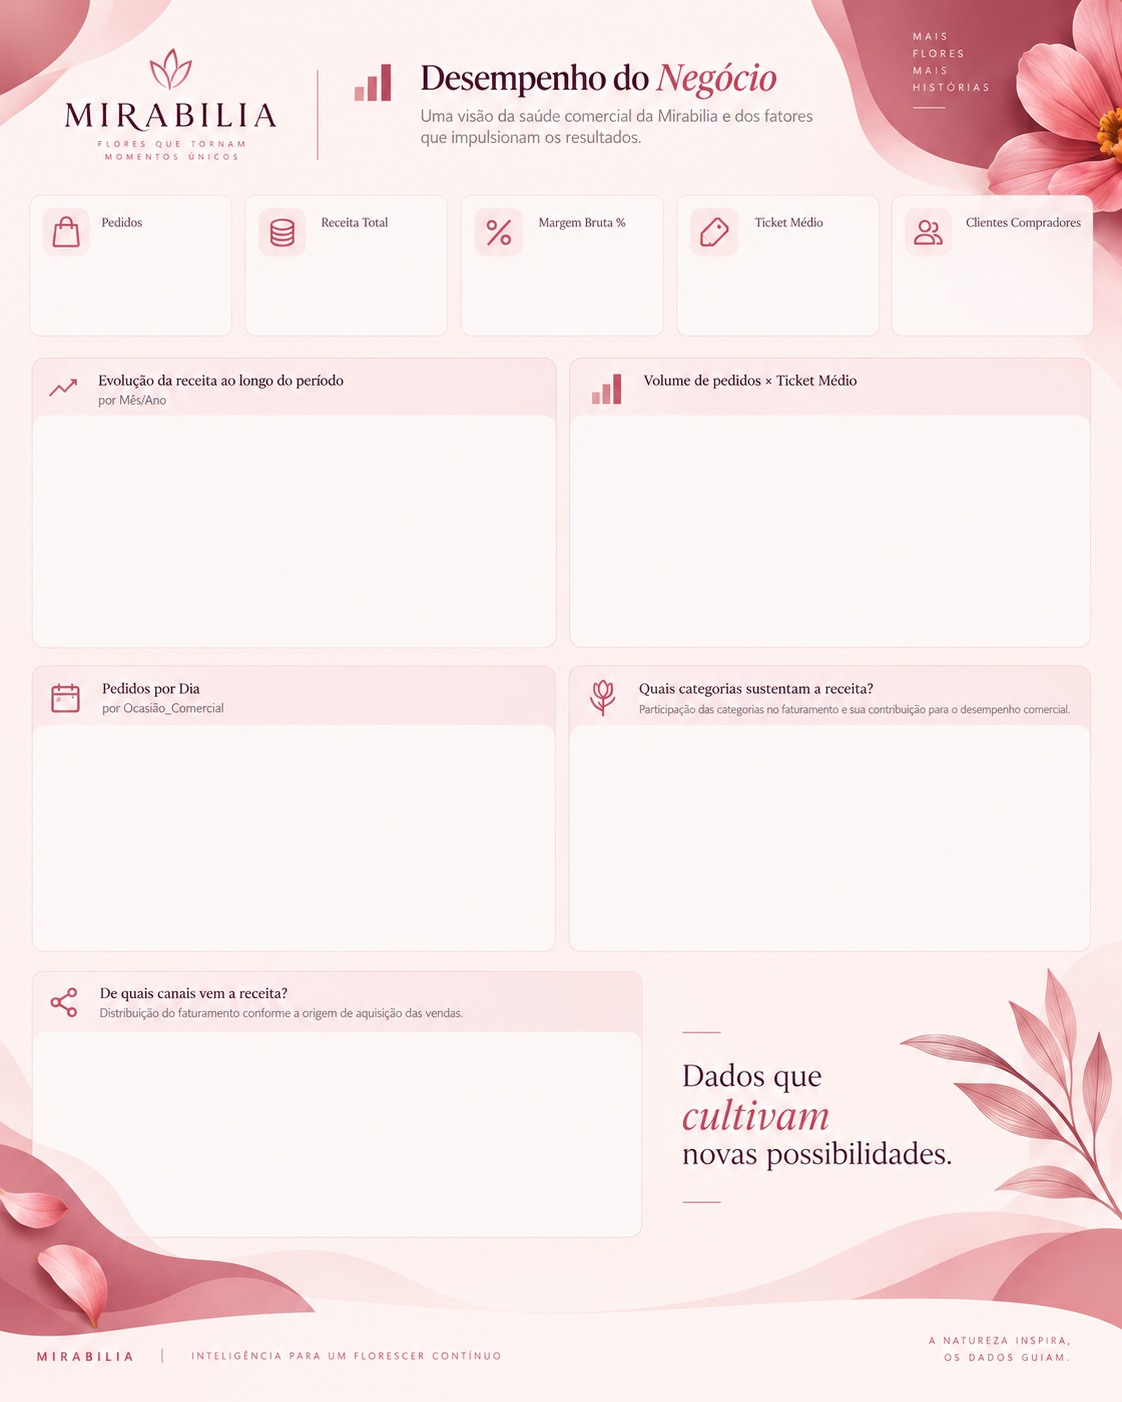

The page's visual inventory and layout, read from the dashboard file:
{"tool":"powerbi","page":{"name":"🌷 Desempenho do Negócio","canvas":[1440,1800],"ordinal":0},"visuals":[{"type":"cardVisual","fields":{"Data":["Medidas.Pedidos"]},"box":[50,327.5,247.5,82.5],"z":0},{"type":"cardVisual","fields":{"Data":["Medidas.Clientes Compradores"]},"box":[1147.5,327.5,250,82.5],"z":1000},{"type":"cardVisual","fields":{"Data":["Medidas.Receita Total"]},"box":[317.5,317.5,257.5,105],"z":2000},{"type":"cardVisual","fields":{"Data":["Medidas.Margem Bruta %"]},"box":[595,317.5,260,105],"z":4000},{"type":"cardVisual","fields":{"Data":["Medidas.Ticket Médio"]},"box":[885,317.5,237.5,105],"z":5000},{"type":"lineChart","fields":{"Category":["DimData.Mes_Ano"],"Y":["Medidas.Receita Total"]},"box":[50,535,662.5,277.5],"z":6000},{"type":"lineClusteredColumnComboChart","title":"Volume de pedidos × Ticket Médio","fields":{"Category":["DimData.Mes_Ano"],"Y":["Medidas.Pedidos"],"Y2":["Medidas.Ticket Médio"]},"box":[725,535,672.5,277.5],"z":7000},{"type":"barChart","fields":{"Category":["DimData.Ocasiao_Comercial"],"Y":["Medidas.Pedidos por Dia"]},"box":[32.5,927.5,680,267.5],"z":8000},{"type":"columnChart","title":"Quais categorias sustentam a receita?","fields":{"Category":["DimProduto.Categoria"],"Y":["Medidas.Receita Total"]},"box":[725,927.5,672.5,267.5],"z":9000},{"type":"columnChart","title":"De quais canais vem a receita?","fields":{"Category":["DimCanal.Canal"],"Y":["Medidas.Receita Total"]},"box":[100,1322.5,712.5,260],"z":10000},{"type":"actionButton","box":[0,0,100,40],"z":11000}]}

Visuals, with their boxes in screenshot pixels (x1, y1, x2, y2), scaled from the page's 1440x1800 canvas onto the 1122x1402 screenshot:
cardVisual - Medidas.Pedidos: rect(39, 255, 232, 319)
cardVisual - Medidas.Clientes Compradores: rect(894, 255, 1089, 319)
cardVisual - Medidas.Receita Total: rect(247, 247, 448, 329)
cardVisual - Medidas.Margem Bruta %: rect(464, 247, 666, 329)
cardVisual - Medidas.Ticket Médio: rect(690, 247, 875, 329)
lineChart - DimData.Mes_Ano x Medidas.Receita Total: rect(39, 417, 555, 633)
"Volume de pedidos × Ticket Médio" lineClusteredColumnComboChart: rect(565, 417, 1089, 633)
barChart - DimData.Ocasiao_Comercial x Medidas.Pedidos por Dia: rect(25, 722, 555, 931)
"Quais categorias sustentam a receita?" columnChart: rect(565, 722, 1089, 931)
"De quais canais vem a receita?" columnChart: rect(78, 1030, 633, 1233)
actionButton: rect(0, 0, 78, 31)
